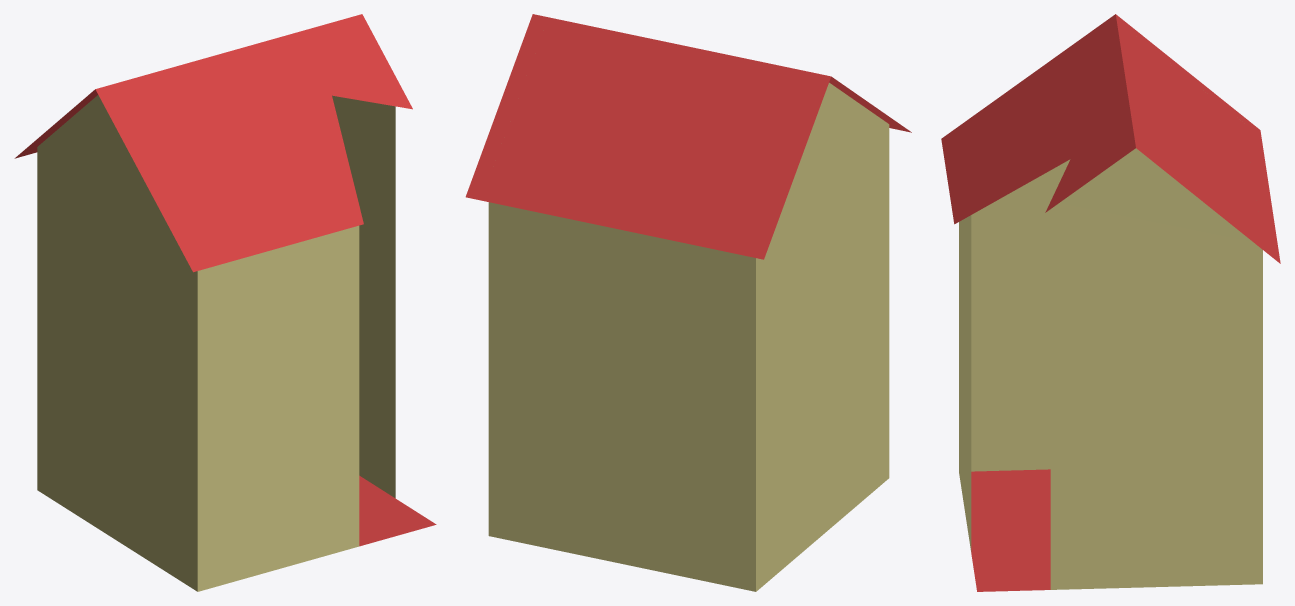
3 renders of one model, left to right at view 1: azimuth 30°, elevation 25°; view 2: azimuth 150°, elevation 25°; view 3: azimuth 270°, elevation 25°, orthographic. The views are drawn at different scales.
Bounding box in the file's own units: 5 × 5.1 × 7.41.
